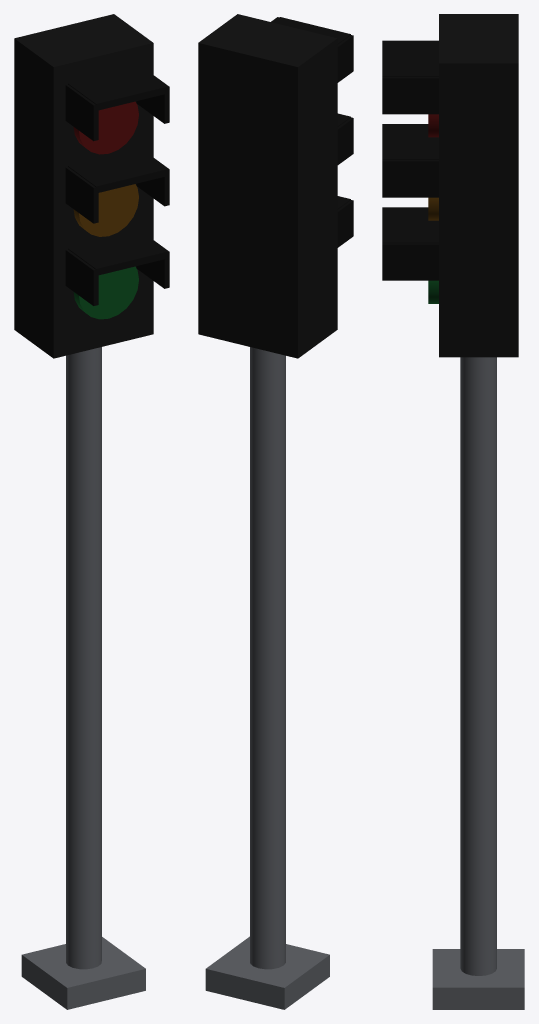
The model's file is Semaforo.obj.
The picture shows the model from 3 angles, left to right: view 1: azimuth 30°, elevation 25°; view 2: azimuth 150°, elevation 25°; view 3: azimuth 270°, elevation 25°; orthographic projection.
Visible parts, largest first — view 1: SemCuerpoCaja, SemCuerpoPoste, SemCuerpoVisera, SemLuzAmbar, SemLuzRoja, SemLuzVerde; view 2: SemCuerpoCaja, SemCuerpoPoste, SemCuerpoVisera; view 3: SemCuerpoPoste, SemCuerpoCaja, SemCuerpoVisera.
Boxes of the visible parts, bbox=[...] form: SemCuerpoCaja: bbox=[14, 14, 153, 358]; SemCuerpoPoste: bbox=[21, 347, 145, 1009]; SemCuerpoVisera: bbox=[65, 66, 169, 305]; SemLuzAmbar: bbox=[73, 184, 138, 236]; SemLuzRoja: bbox=[73, 101, 138, 154]; SemLuzVerde: bbox=[73, 266, 138, 319]; SemCuerpoCaja: bbox=[198, 14, 337, 358]; SemCuerpoPoste: bbox=[205, 347, 329, 1009]; SemCuerpoVisera: bbox=[271, 17, 353, 247]; SemCuerpoPoste: bbox=[432, 357, 524, 1009]; SemCuerpoCaja: bbox=[439, 14, 518, 357]; SemCuerpoVisera: bbox=[382, 40, 438, 280].
Bounding box in the file's own units: 0.38 × 3.43 × 0.465.
